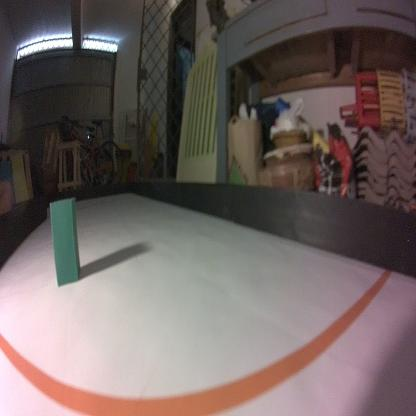green: (48, 196, 84, 286)
